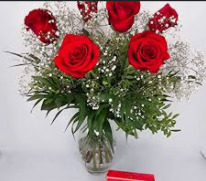RedRose: (126, 30, 174, 75), (53, 32, 98, 79)
